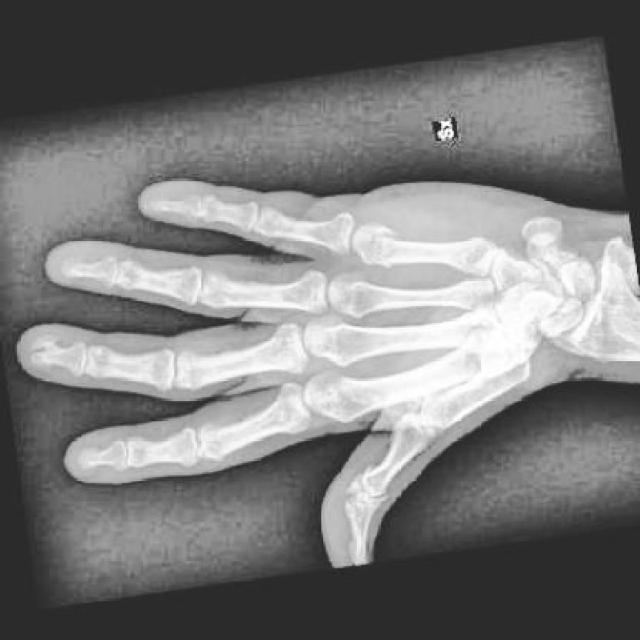Fracture: (346, 218, 404, 274), (336, 474, 367, 514)
